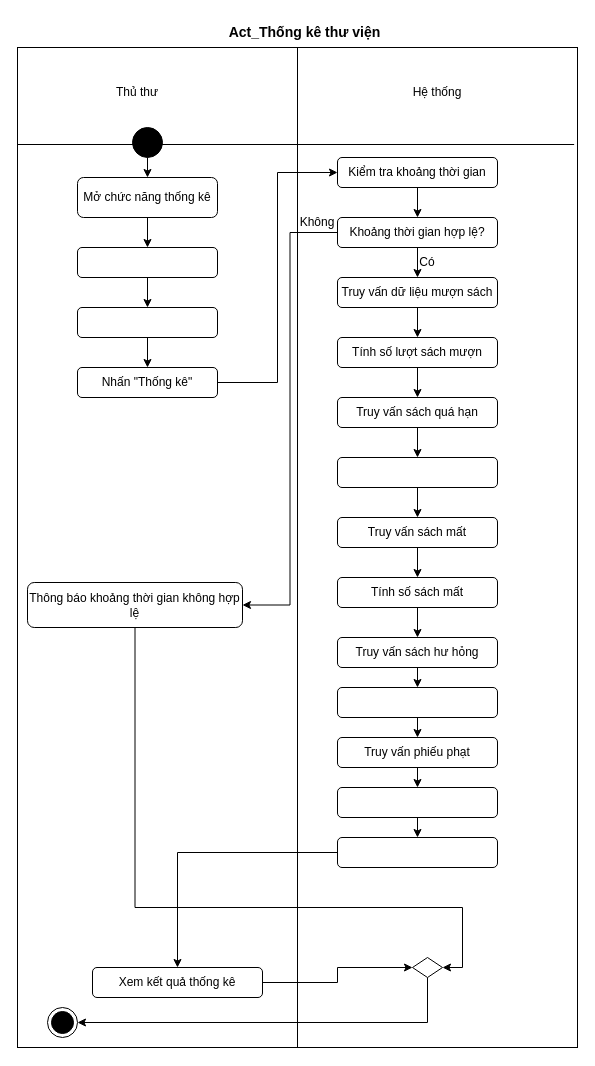
This 595x1066 diagram has some shape labels left out. The shapes that lost their labels are listed below. From the top down, each one's box as (x1, y1, x2, y2) in pixels, then its label:
(76, 246, 218, 278): Chọn ngày bắt đầu
(76, 306, 218, 338): Chọn ngày kết thúc
(336, 456, 498, 488): Tính số sách quá hạn
(336, 686, 498, 718): Tính số sách hư hỏng
(336, 786, 498, 818): Tính tổng phí phạt
(336, 836, 498, 868): Hiển thị kết quả thống kê
